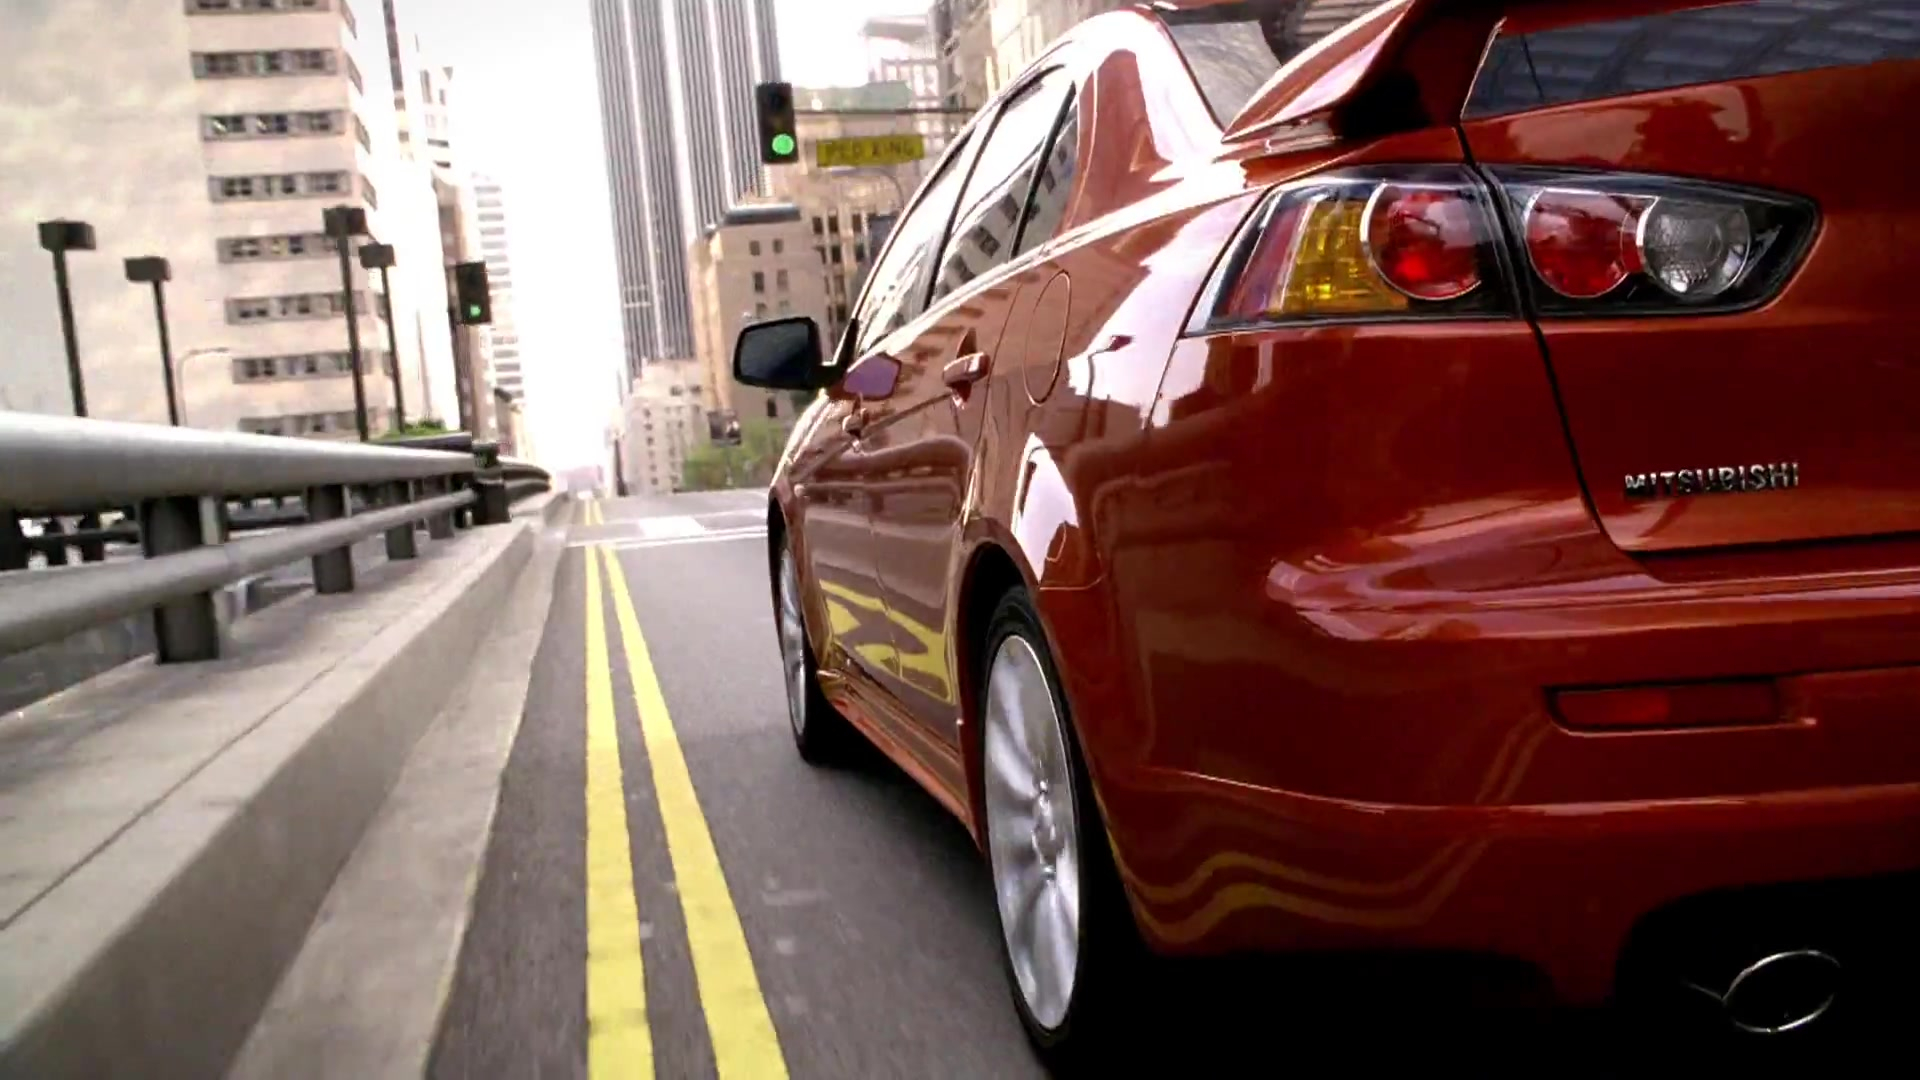car: (724, 8, 1920, 1080)
